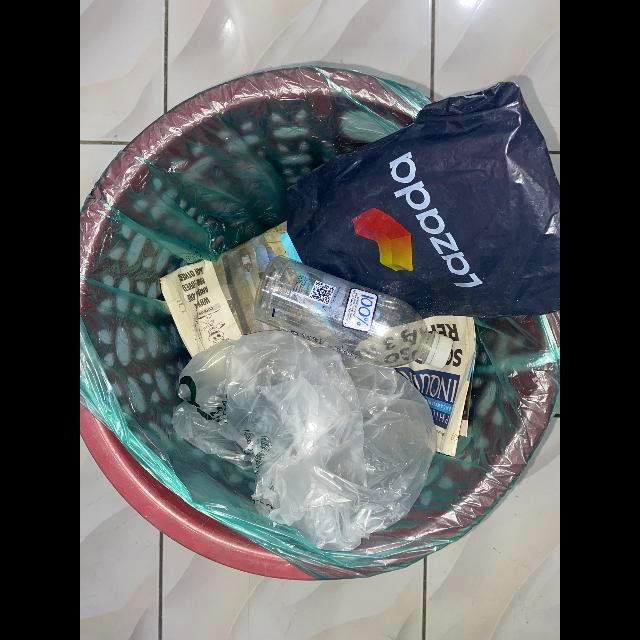paper: (160, 221, 303, 358), (352, 316, 477, 457)
plastic_bag: (286, 80, 560, 319), (171, 331, 437, 553)
plastic_bottle: (254, 256, 455, 368)
